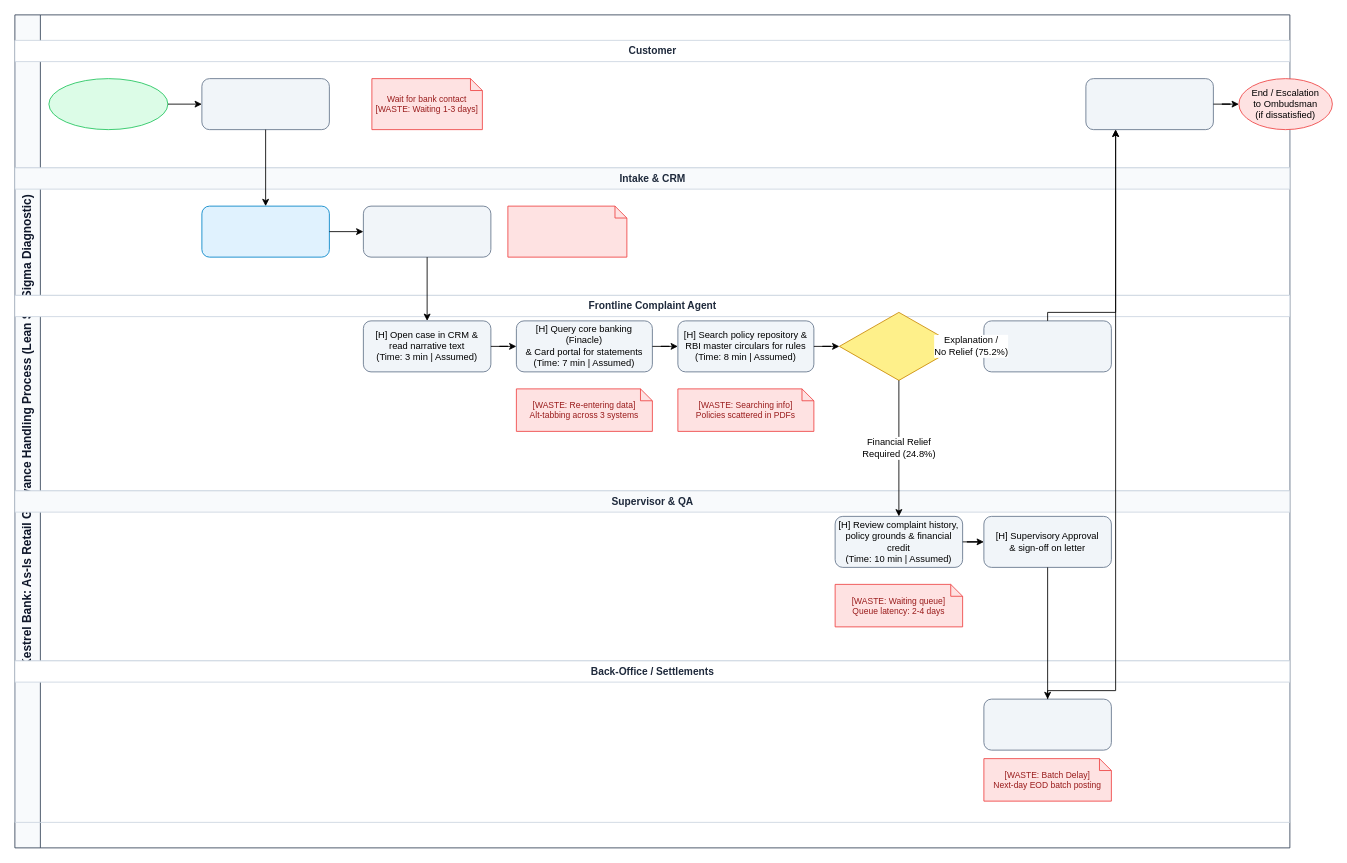
The diagram is 1347 pixels wide and 863 high, and some of its shapes have lost their labels. The centre of each missing label's shape, as x and y in pixels:
"[H/R] Manual queue triage by central routing desk (Time: 5 min | Assumed)" belongs at (x=427, y=231).
"[H] Draft custom reply letter from scratch in Word/CRM (Time: 7 min | Assumed)" belongs at (x=1047, y=346).
"[H] Formulate outcome Requires refund or waiver? (Decision Gateway)" belongs at (x=898, y=346).
"[H] Post financial adjustment / fee waiver in CBS ledger (Time: 5 min | Assumed)" belongs at (x=1047, y=724).
"[H] Submit complaint via Web portal or Branch (Time: 10 min | Assumed)" belongs at (x=265, y=104).
"[R] Log ticket & assign ID Generate auto-ack email (Lag: 0.0 days | Measured)" belongs at (x=265, y=231).
"[WASTE: Hand-off / Misroute] ~20% sent to wrong team" belongs at (x=567, y=231).
"Customer experiences defect (Unauthorized charge, fee, block)" belongs at (x=108, y=104).
"Receive formal closure letter or account notification" belongs at (x=1149, y=104).
